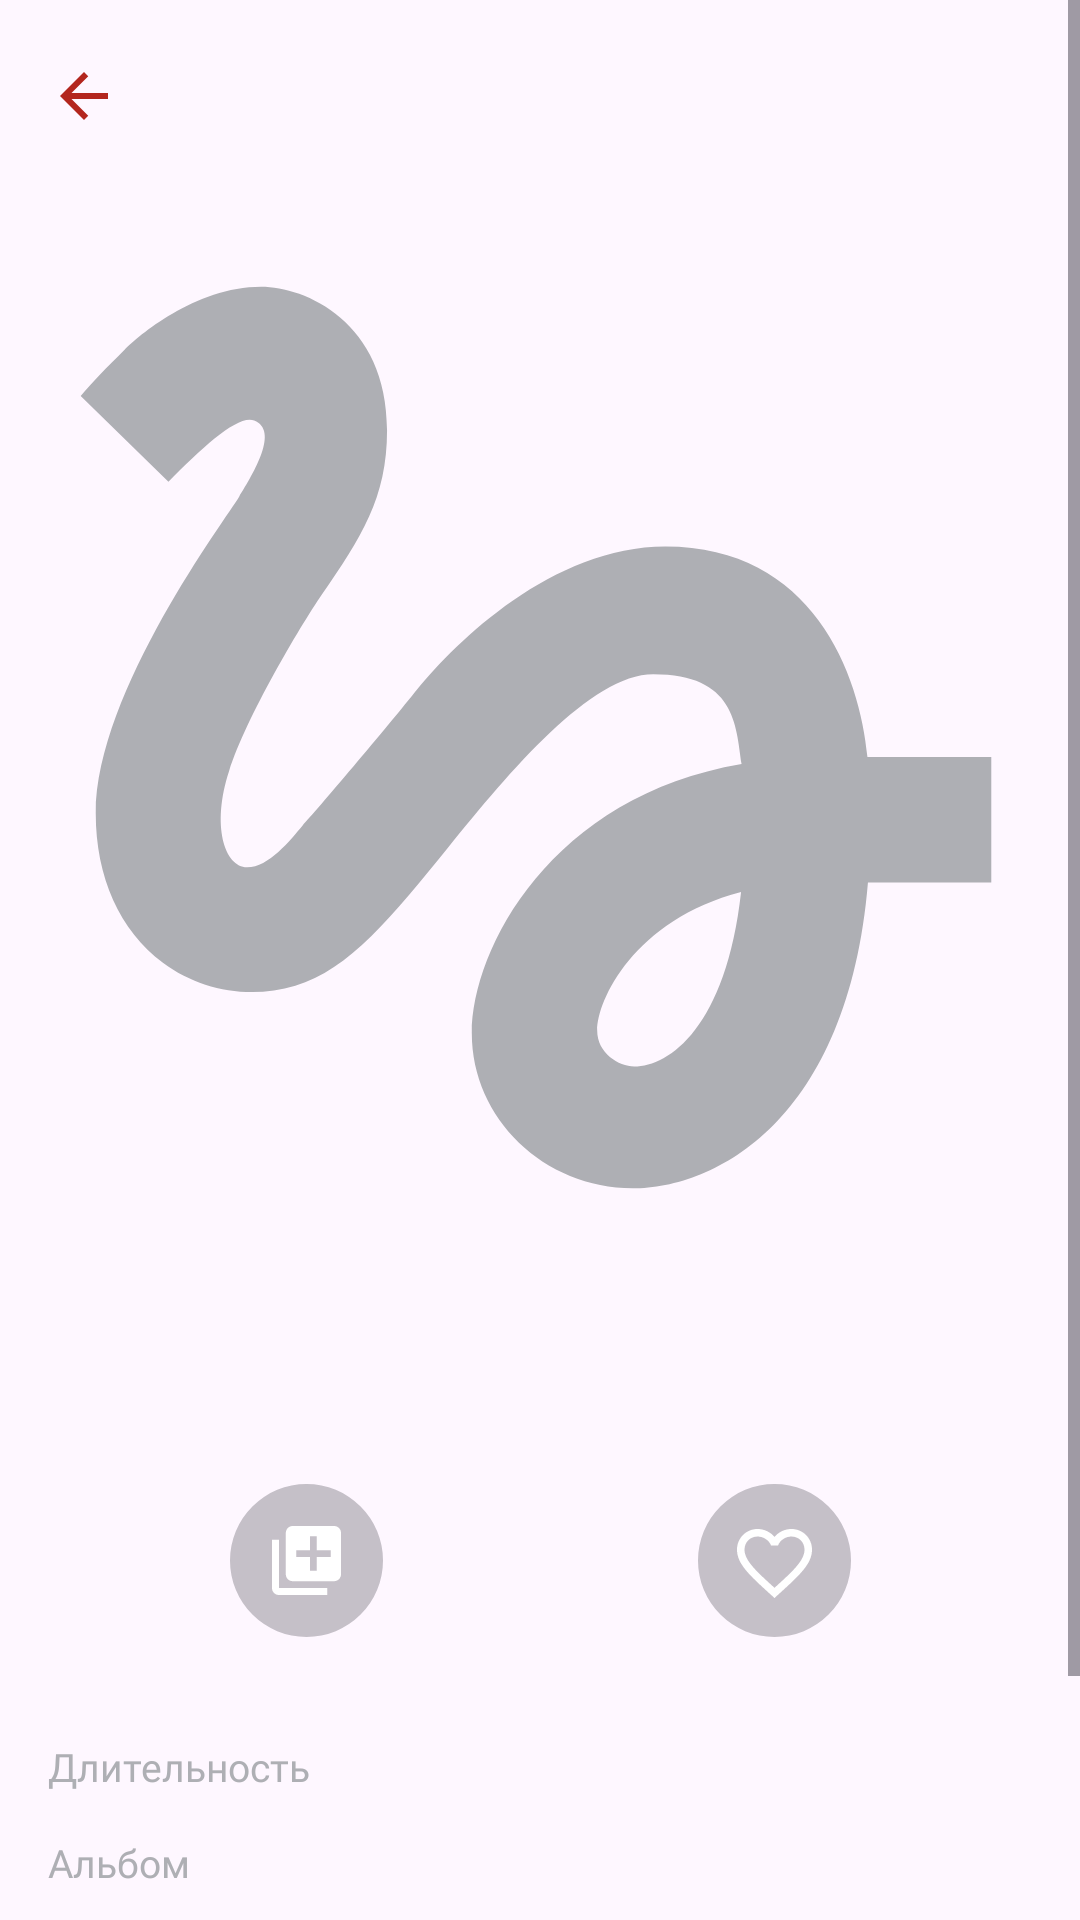

Screen size 1080px x 1920px. Icon name, then its box in pixels as (x1, y1, x2, y2):
like: (698, 1484, 851, 1637)
